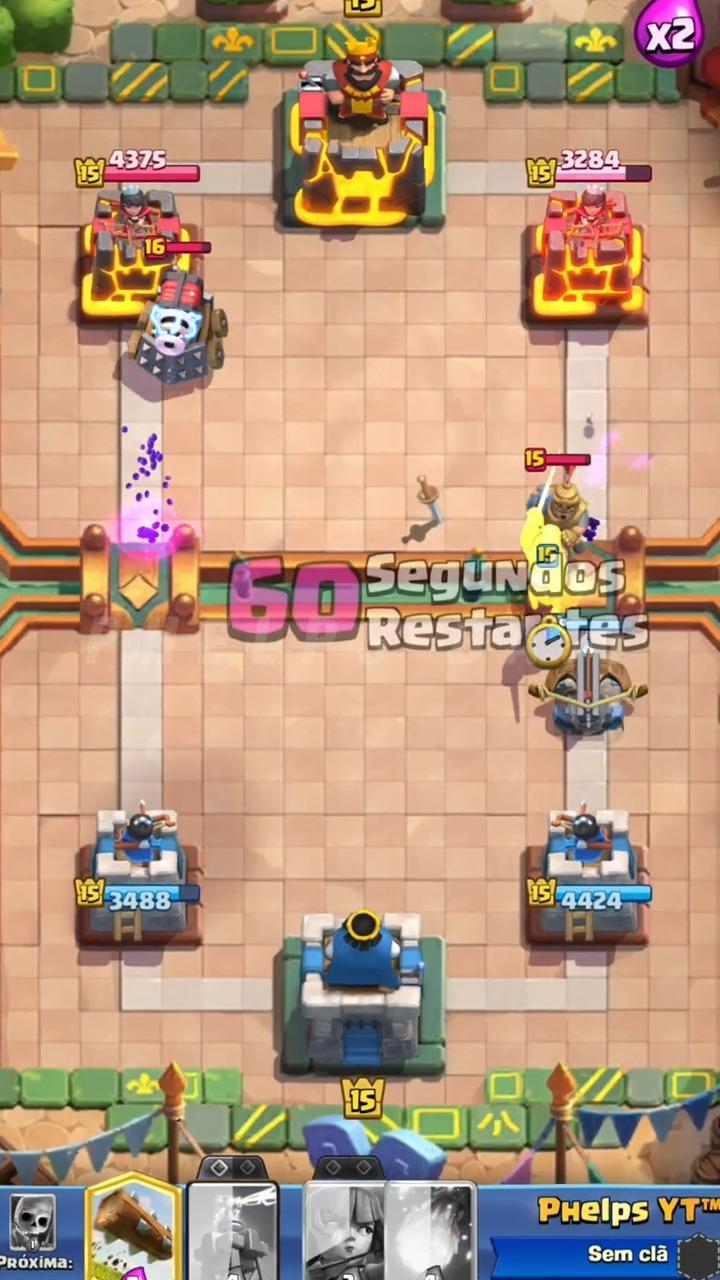knight: (521, 480, 566, 611)
prince: (528, 468, 588, 555)
sparky: (127, 265, 228, 386)
x-bow: (530, 637, 646, 738)
